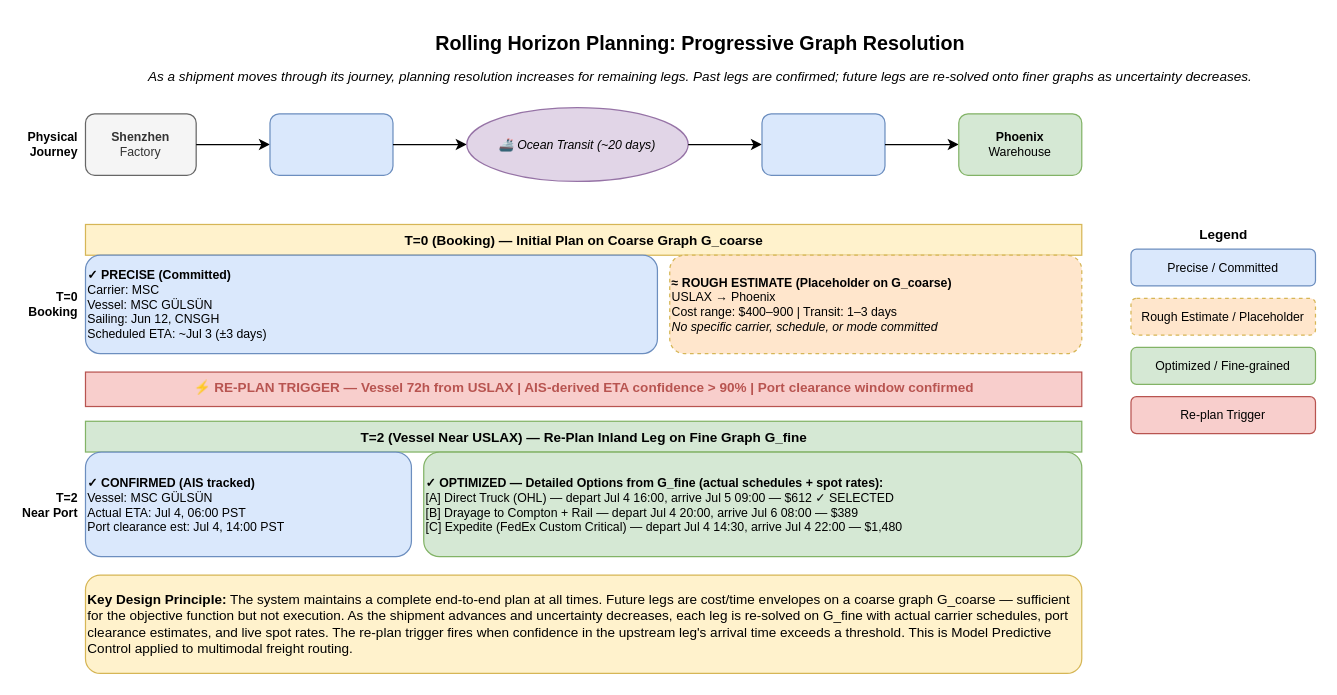
This 1337x695 diagram has some shape labels left out. The shapes that lost their labels are listed below. From the top down, each one's box as (x1, y1, x2, y2) in pixels, then its label:
(269, 113, 393, 175): CNSGH Shanghai Port
(761, 113, 885, 175): USLAX Port of LA
